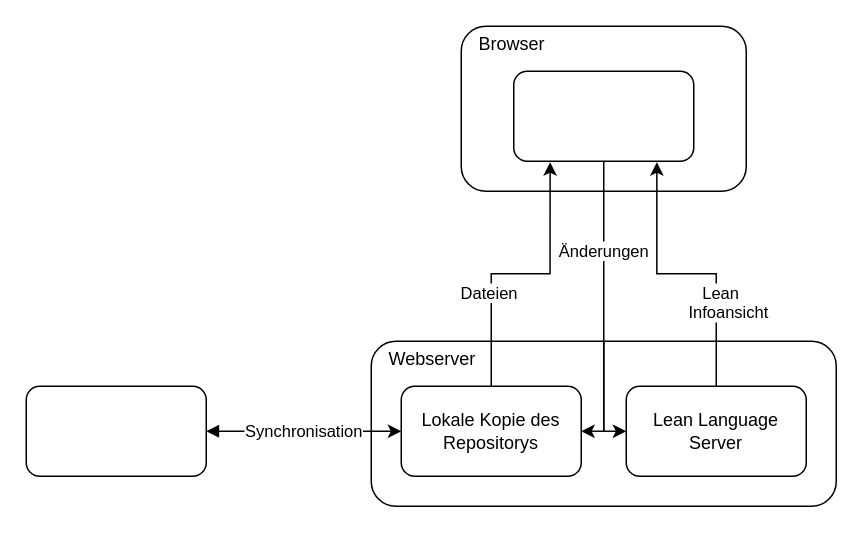
Some shapes in this 863 by 533 pixel diagram are drawn without their labels. Here are the shapes that lost their labels. From the top down, the centre of each, then its label:
point (603, 115): Monaco Editor (LSP Client)
point (115, 430): Github Repository
